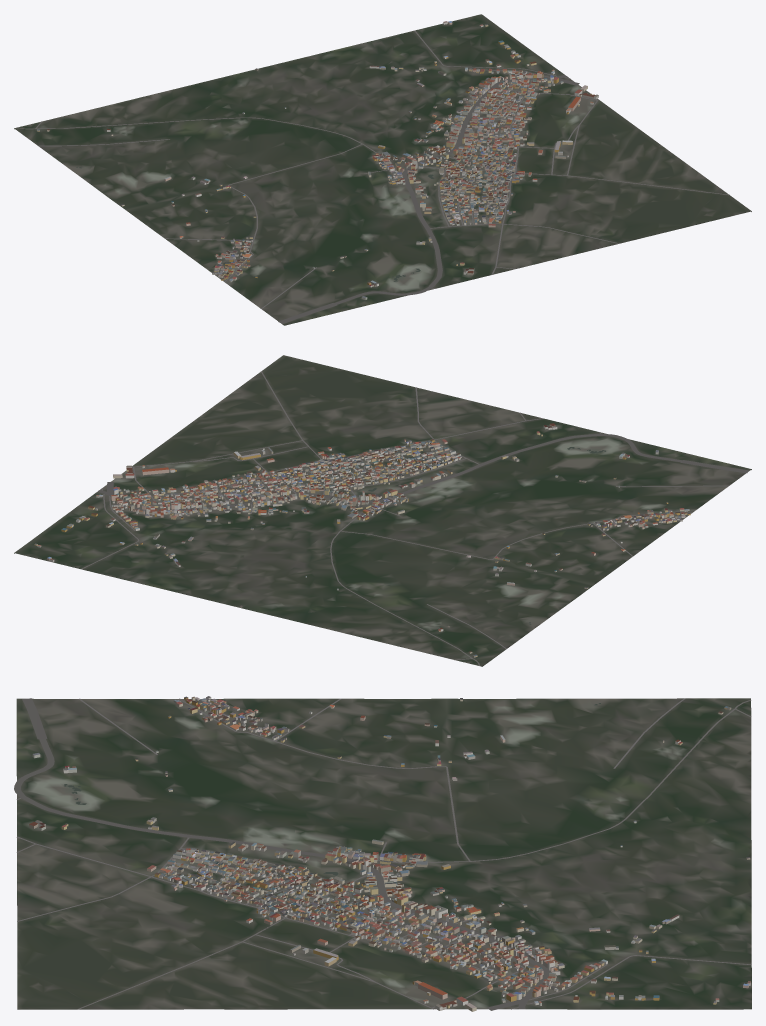
3 renders of one model, top to bottom at view 1: azimuth 30°, elevation 25°; view 2: azimuth 150°, elevation 25°; view 3: azimuth 270°, elevation 25°, orthographic. The views are drawn at different scales.
Visible parts, largest first — view 1: ground, buildings, roads; view 2: ground, buildings, roads; view 3: ground, buildings, roads.
Boxes of the visible parts, bbox=[...] form: ground: bbox=[14, 14, 751, 325]; buildings: bbox=[37, 21, 598, 299]; roads: bbox=[17, 30, 729, 323]; ground: bbox=[14, 355, 751, 666]; buildings: bbox=[34, 423, 690, 657]; roads: bbox=[81, 371, 748, 665]; ground: bbox=[16, 698, 751, 1009]; buildings: bbox=[29, 696, 750, 1011]; roads: bbox=[14, 698, 751, 1010].
Bounding box in the file's own units: 1418 × 26.49 × 1408.
